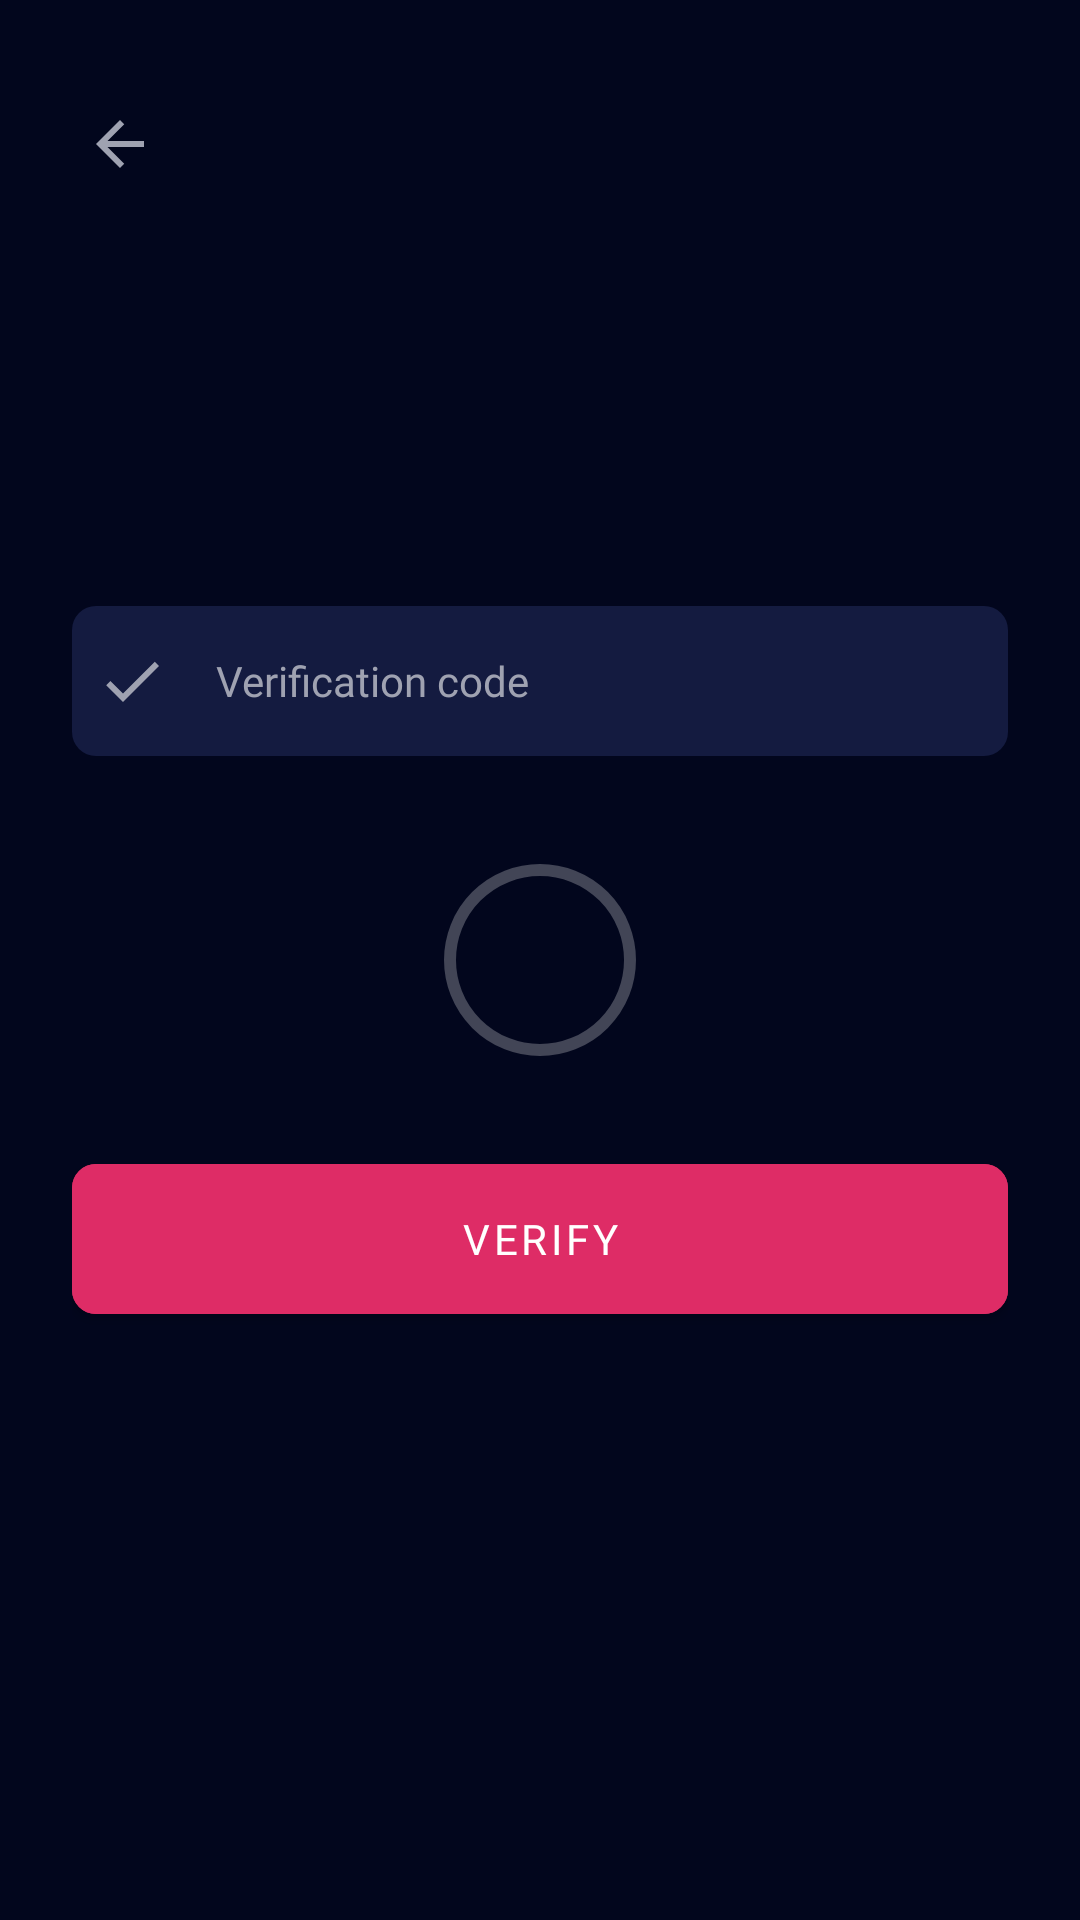

Named icons in this screenshot (1080×1920) and their bounding boxes, (x1, y1, x2, y2):
back: (96, 120, 144, 168)
